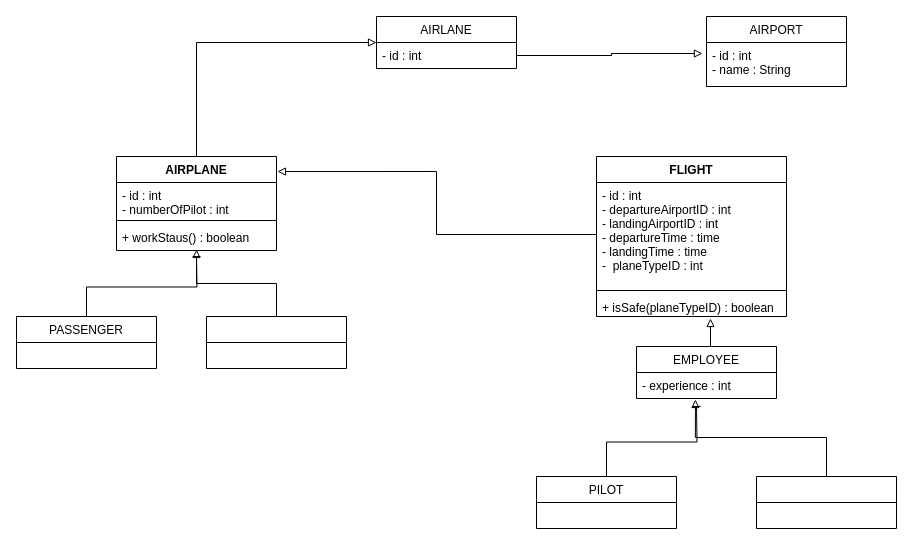
The diagram is 913 pixels wide and 545 high, and some of its shapes have lost their labels. Here are the shapes that lost their labels. From the top down, the centre of each, then its label:
[276,342]: CARGO
[826,502]: COPILOT
